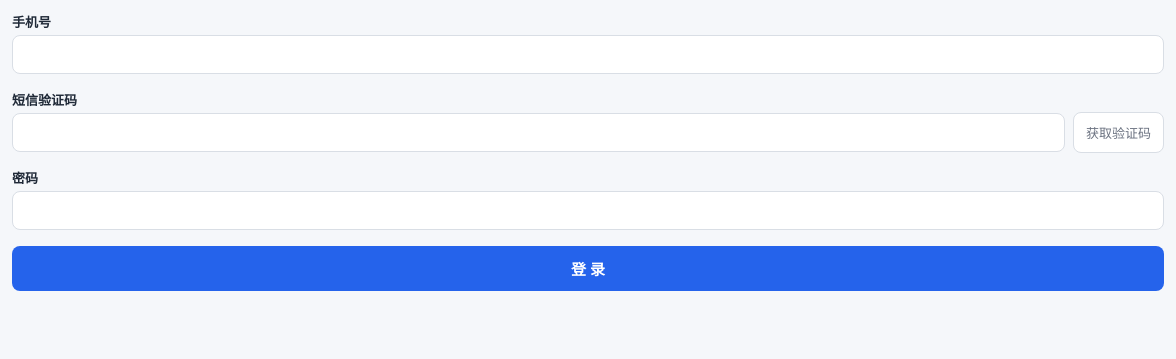
US2 非法输入即时拦截与友好提示 › 未注册手机号与密码错误提示一致（防枚举 V-11）
The image size is (1176, 359).
In the field labelled "手机号": (588, 54) x1=12 y1=35 x2=1164 y2=74, type "13800000099"
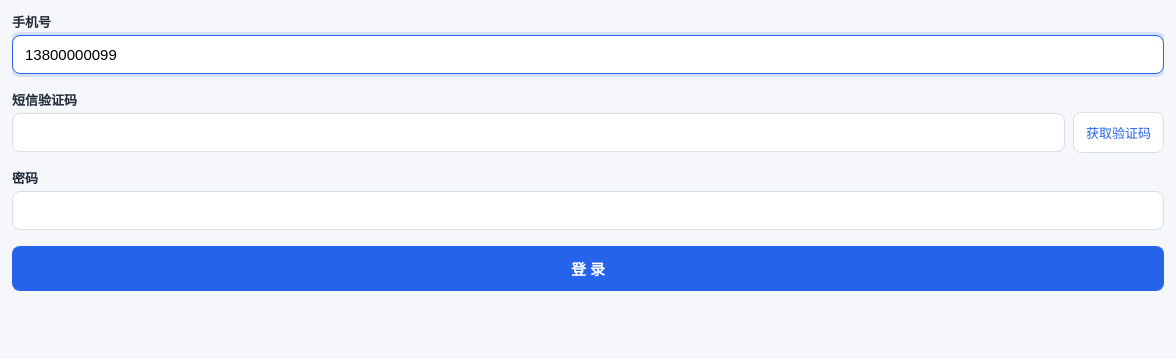
In the field labelled "短信验证码": (538, 132) x1=12 y1=113 x2=1065 y2=152, type "135792"
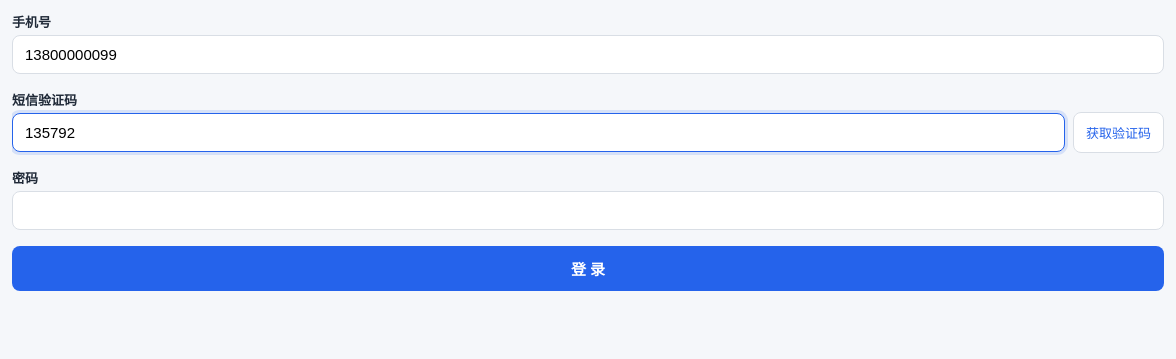
In the password field labelled "密码": (588, 210) x1=12 y1=191 x2=1164 y2=230, type "enc:valid-password"
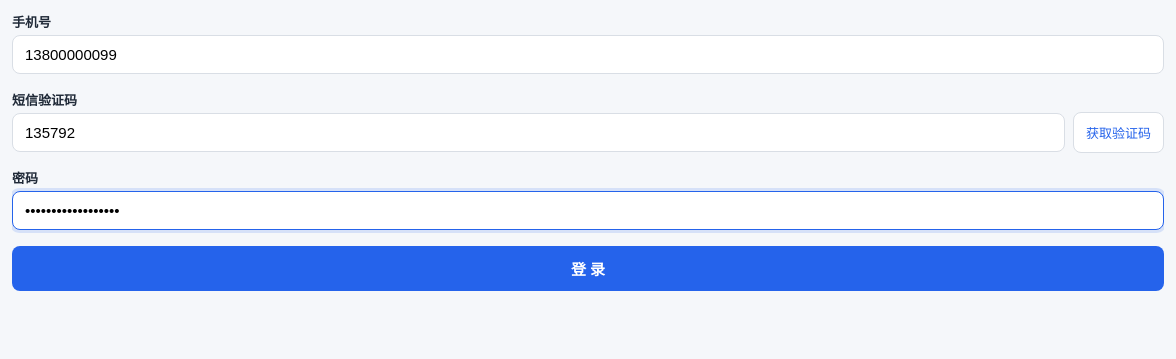
Click the button "登 录": (588, 268) x1=12 y1=246 x2=1164 y2=291
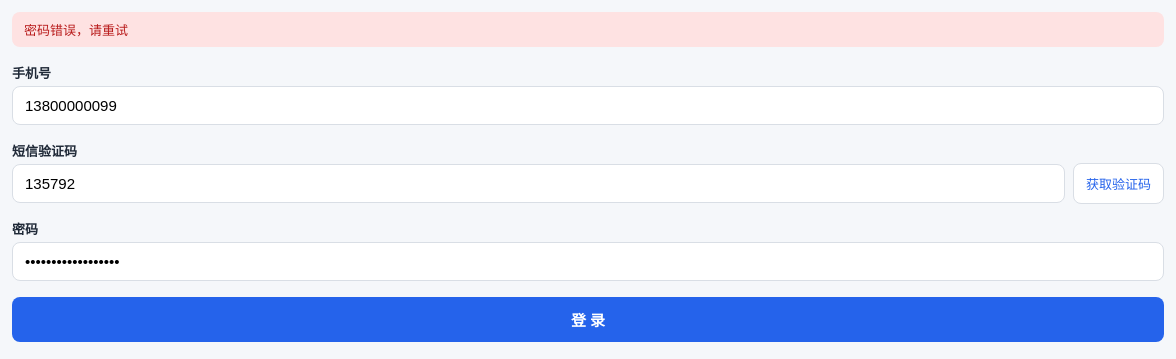
Result: the text "密码错误，请重试" is shown at x1=12 y1=12 x2=1164 y2=47
